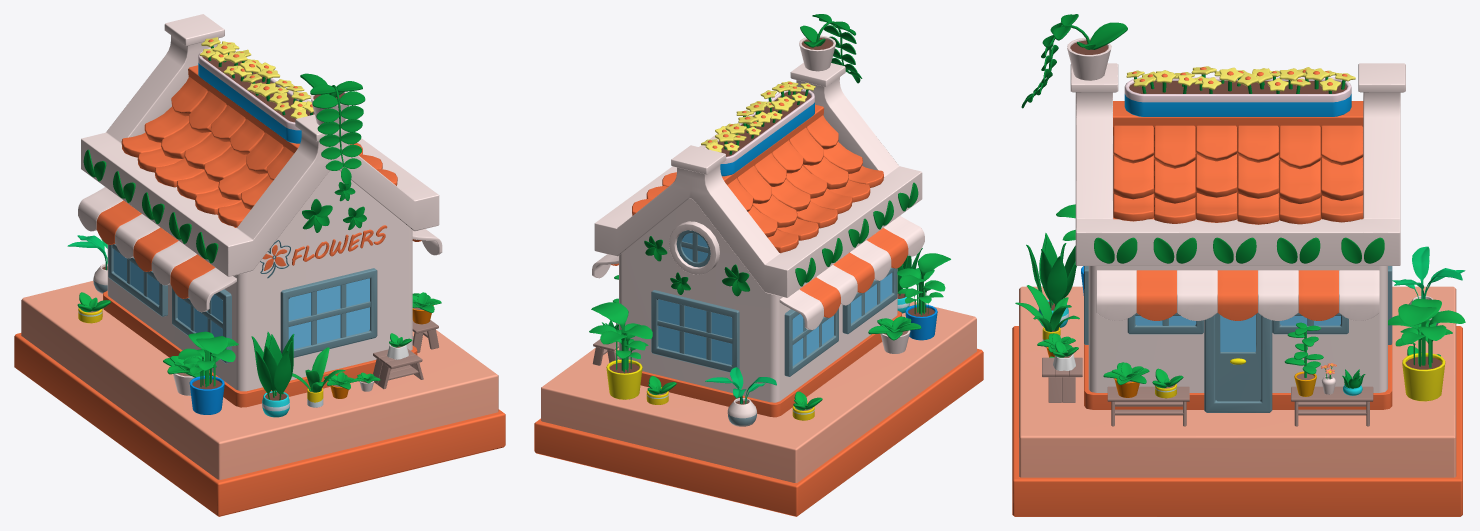
The model's file is Store_Island_6.glb.
3 renders of one model, left to right at view 1: azimuth 30°, elevation 25°; view 2: azimuth 150°, elevation 25°; view 3: azimuth 270°, elevation 25°, orthographic. The views are drawn at different scales.
Parts seen in each view (by area): view 1: Store_6_Flowers_Shop_1, Store_6_Base_1, Store_6_Plant_1, Store_6_Plant_2, Store_6_Plant_4, Store_6_Plant_9, Store_6_Chair_1, Store_6_Plant_10, Store_6_Plant_15, Store_6_Plant_3, Store_6_Plant_17, Store_6_Plant_8 (+2 smaller); view 2: Store_6_Flowers_Shop_1, Store_6_Base_1, Store_6_Plant_1, Store_6_Plant_12, Store_6_Plant_4, Store_6_Plant_2, Store_6_Plant_3, Store_6_Plant_15, Store_6_Plant_17, Store_6_Plant_16, Store_6_Leafs_Logo_4; view 3: Store_6_Flowers_Shop_1, Store_6_Base_1, Store_6_Plant_1, Store_6_Plant_12, Store_6_Plant_2, Store_6_Plant_9, Store_6_Bench_2, Store_6_Bench_1, Store_6_Plant_6, Store_6_Chair_1, Store_6_Plant_10, Store_6_Plant_3 (+3 smaller).
Part boxes in pixels (left/top/right/bottom): Store_6_Flowers_Shop_1: left=78, top=14, right=442, bottom=407; Store_6_Base_1: left=14, top=281, right=505, bottom=516; Store_6_Plant_1: left=198, top=37, right=314, bottom=143; Store_6_Plant_2: left=300, top=73, right=365, bottom=184; Store_6_Plant_4: left=178, top=331, right=238, bottom=414; Store_6_Plant_9: left=251, top=332, right=294, bottom=417; Store_6_Chair_1: left=373, top=348, right=423, bottom=389; Store_6_Plant_10: left=292, top=347, right=345, bottom=407; Store_6_Plant_15: left=163, top=356, right=216, bottom=395; Store_6_Plant_3: left=67, top=235, right=107, bottom=293; Store_6_Plant_17: left=77, top=292, right=110, bottom=323; Store_6_Plant_8: left=412, top=292, right=441, bottom=324; Store_6_Flowers_Shop_1: left=592, top=62, right=924, bottom=417; Store_6_Base_1: left=534, top=301, right=983, bottom=516; Store_6_Plant_1: left=701, top=81, right=815, bottom=176; Store_6_Plant_12: left=589, top=302, right=652, bottom=399; Store_6_Plant_4: left=897, top=253, right=950, bottom=340; Store_6_Plant_2: left=799, top=14, right=862, bottom=83; Store_6_Plant_3: left=705, top=367, right=776, bottom=426; Store_6_Plant_15: left=868, top=316, right=921, bottom=353; Store_6_Plant_17: left=792, top=391, right=822, bottom=420; Store_6_Plant_16: left=646, top=376, right=676, bottom=404; Store_6_Leafs_Logo_4: left=722, top=264, right=749, bottom=296; Store_6_Flowers_Shop_1: left=1070, top=63, right=1405, bottom=412; Store_6_Base_1: left=1012, top=286, right=1462, bottom=516; Store_6_Plant_1: left=1124, top=66, right=1355, bottom=116; Store_6_Plant_12: left=1388, top=299, right=1465, bottom=401; Store_6_Plant_2: left=1021, top=14, right=1127, bottom=108; Store_6_Plant_9: left=1026, top=233, right=1076, bottom=327; Store_6_Bench_2: left=1291, top=386, right=1373, bottom=426; Store_6_Bench_1: left=1107, top=386, right=1189, bottom=426; Store_6_Plant_6: left=1284, top=322, right=1323, bottom=396; Store_6_Chair_1: left=1042, top=357, right=1082, bottom=402; Store_6_Plant_10: left=1015, top=285, right=1079, bottom=347; Store_6_Plant_3: left=1392, top=246, right=1465, bottom=327.
Size of the model in its own units: 6.79 by 8.53 by 8.39.
Materials: 49 (49 with a texture image).
